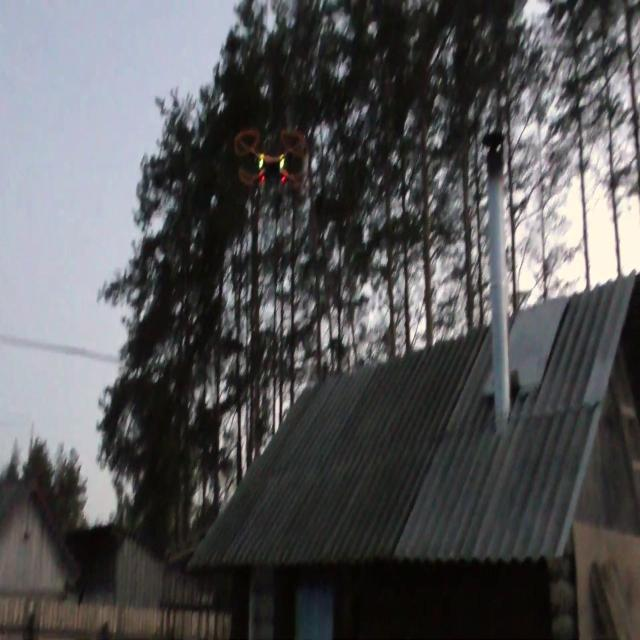Drons: (234, 126, 312, 192)
